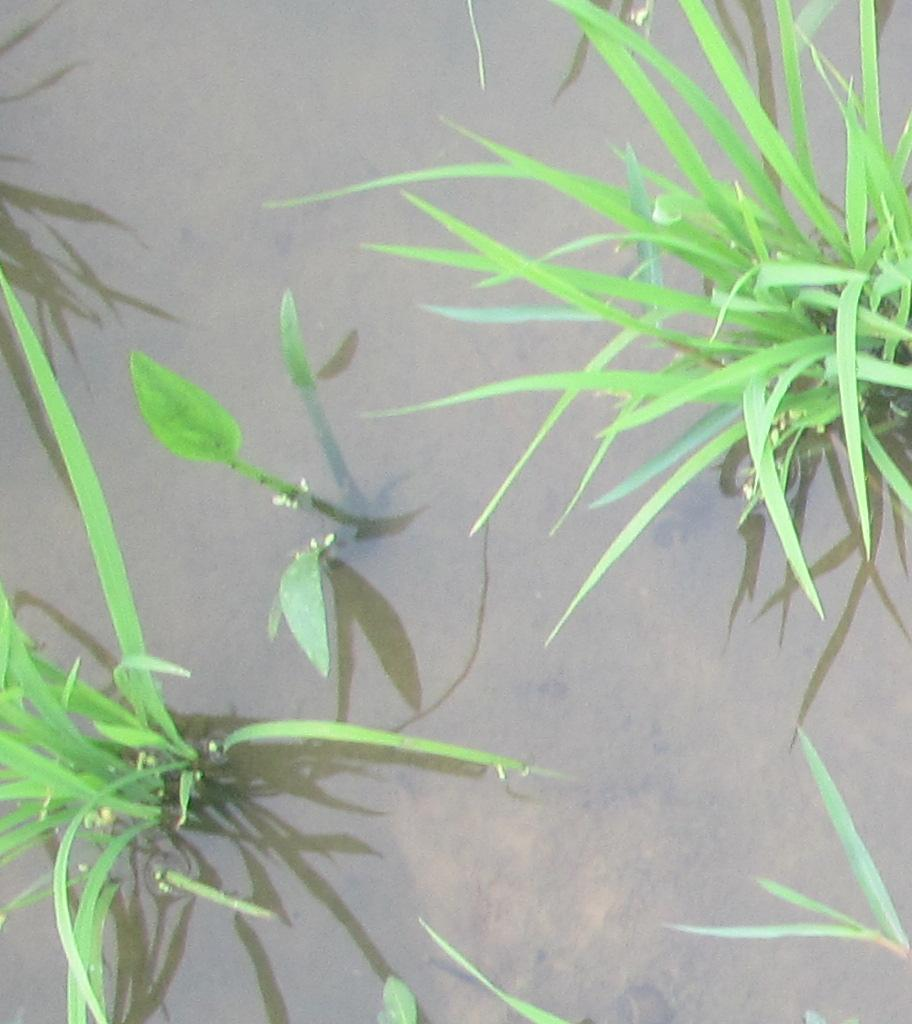Weed: (122, 347, 249, 492), (269, 549, 347, 680)
